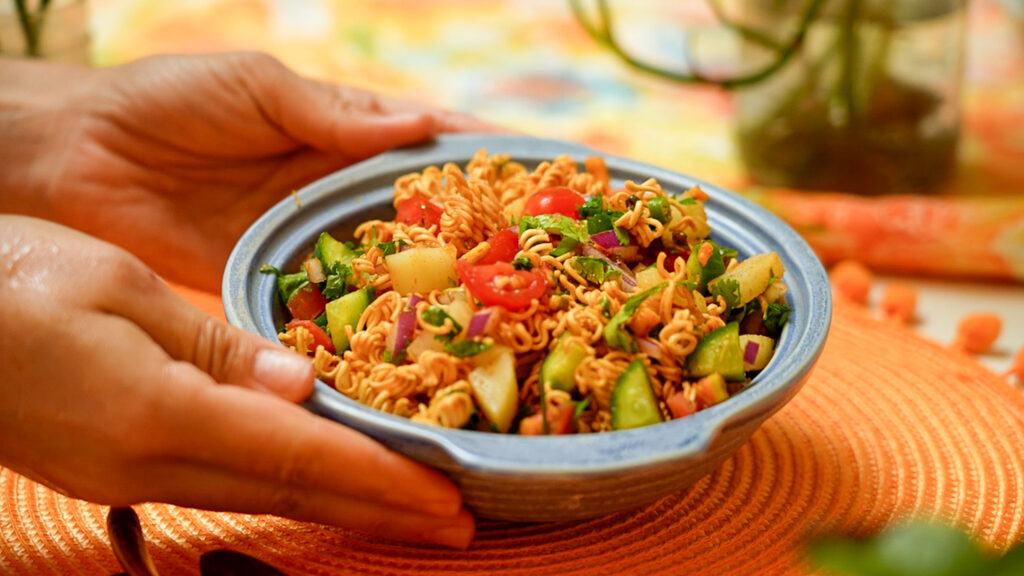chatpate: (313, 180, 741, 411)
